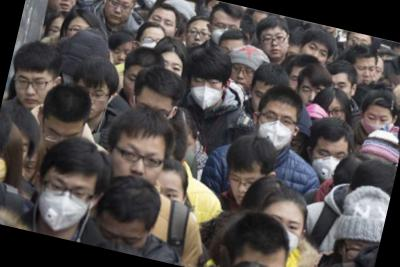with_mask: (33, 171, 97, 241), (251, 107, 300, 156), (258, 211, 305, 257), (307, 141, 350, 185), (184, 73, 226, 115), (207, 18, 241, 50), (360, 109, 394, 141)
without_mask: (104, 136, 168, 190), (8, 68, 52, 112), (34, 121, 83, 159), (221, 168, 265, 210), (118, 66, 161, 107), (71, 82, 112, 123), (256, 26, 293, 64), (227, 63, 257, 95), (182, 23, 213, 53), (295, 81, 325, 110), (350, 60, 379, 90), (145, 13, 178, 39), (300, 40, 331, 67), (110, 45, 132, 68), (399, 58, 400, 82)
